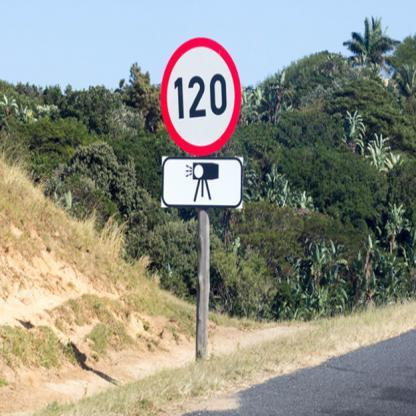Speed Limit 120: (164, 38, 238, 153)
